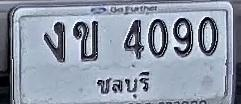0: (198, 16, 218, 56), (148, 18, 168, 57)
4: (124, 19, 144, 59)
9: (173, 18, 193, 57)
A02: (73, 20, 98, 61)
A07: (44, 21, 66, 62)
CBI: (94, 69, 151, 100)
